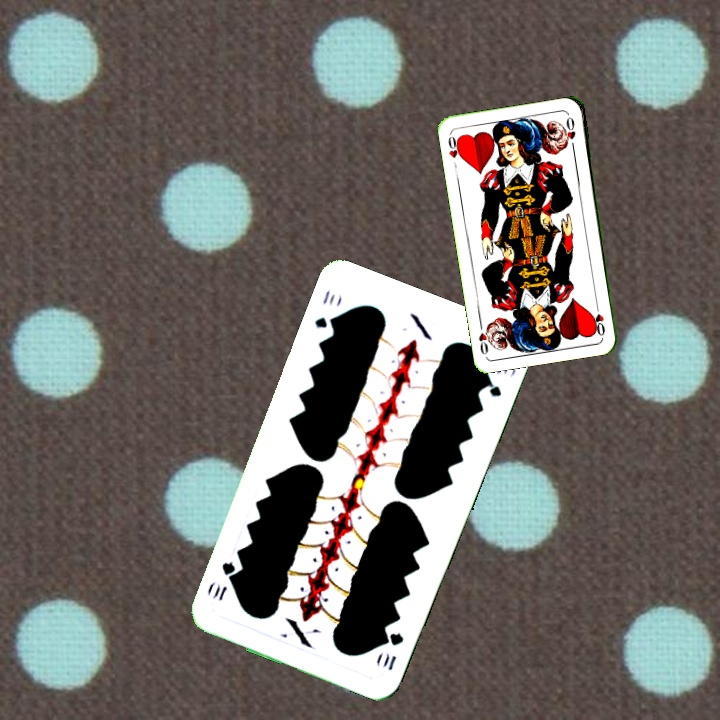G10: (310, 285, 340, 331), (379, 628, 406, 673)
HO: (444, 130, 465, 171), (592, 298, 608, 339)
